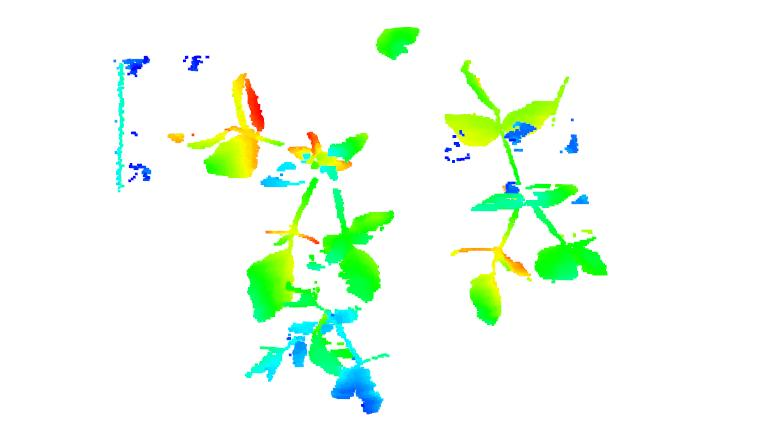mungbean: (163, 72, 397, 317), (440, 57, 612, 326), (243, 290, 399, 417)
